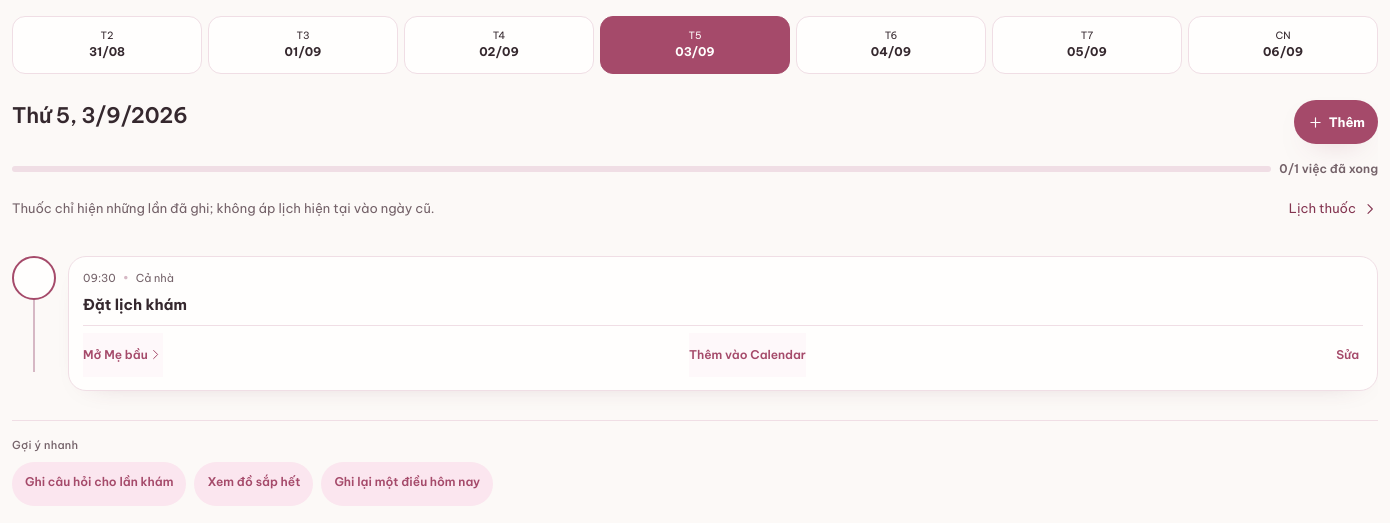
Scenario: one-handed family planner › completes optimistically and can reopen a task
Click the button named "Đánh dấu Đặt lịch khám đã xong" at x=34, y=278, box [12, 256, 56, 300]
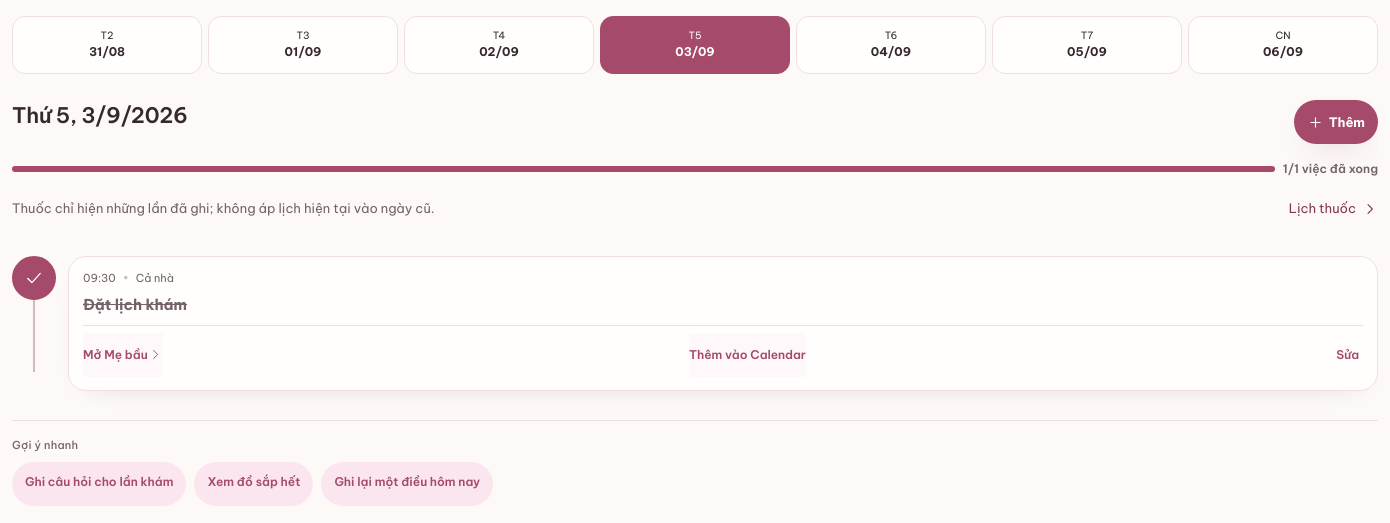
Result: the text "1/1 việc đã xong" is shown at [1283, 160, 1378, 179]
